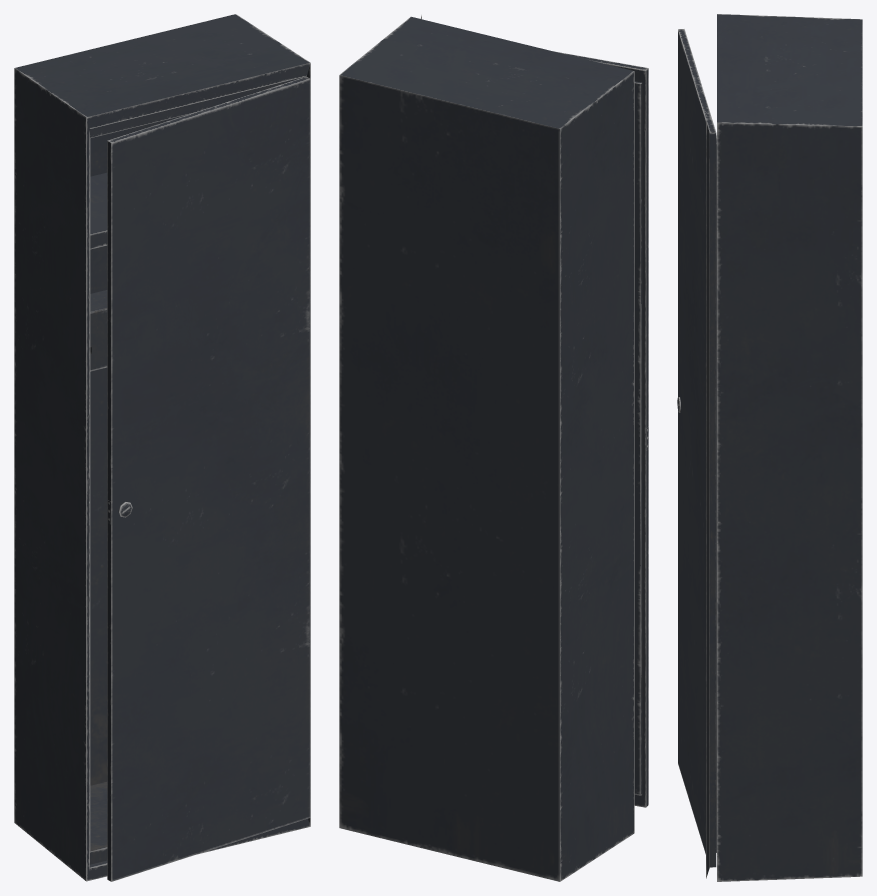
3 views of the same model, side by side, from view 1: azimuth 30°, elevation 25°; view 2: azimuth 150°, elevation 25°; view 3: azimuth 270°, elevation 25° (orthographic).
Parts seen in each view (by area): view 1: M.W.O.C porta, M.W.O.C; view 2: M.W.O.C, M.W.O.C porta; view 3: M.W.O.C, M.W.O.C porta.
Part boxes in pixels (x1=…): M.W.O.C porta: x1=107, y1=76, x2=310, y2=881; M.W.O.C: x1=14, y1=14, x2=310, y2=881; M.W.O.C: x1=339, y1=16, x2=634, y2=881; M.W.O.C porta: x1=420, y1=15, x2=648, y2=807; M.W.O.C: x1=717, y1=14, x2=862, y2=881; M.W.O.C porta: x1=677, y1=29, x2=716, y2=878.
Bounding box in the file's own units: 61.14 × 199 × 44.05.
